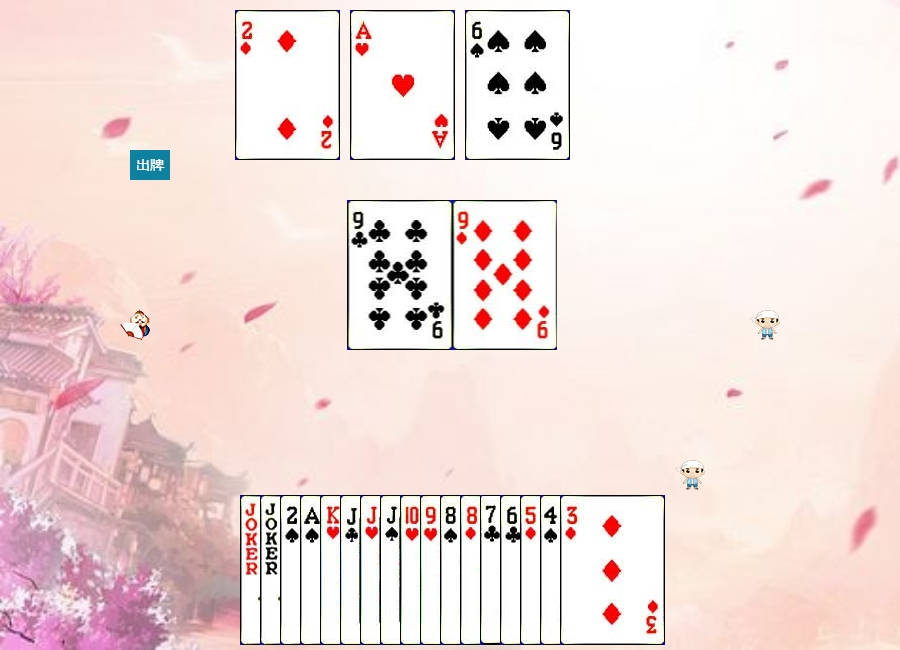10~3: (400, 495, 505, 645)
11~2: (340, 495, 445, 645)
11~3: (360, 495, 465, 645)
11~4: (380, 495, 485, 645)
13~3: (320, 495, 425, 645)
14~3: (350, 10, 455, 160)
14~4: (300, 495, 405, 645)
15~1: (235, 10, 340, 160)
15~4: (280, 495, 385, 645)
17~3: (260, 495, 365, 645)
18~4: (240, 495, 345, 645)
3~1: (560, 495, 665, 645)
4~4: (540, 495, 645, 645)
5~1: (520, 495, 625, 645)
6~2: (500, 495, 605, 645)
6~4: (465, 10, 570, 160)
7~2: (480, 495, 585, 645)
8~1: (460, 495, 565, 645)
8~4: (440, 495, 545, 645)
9~1: (453, 200, 558, 350)
9~2: (348, 200, 453, 350)
9~3: (420, 495, 525, 645)
